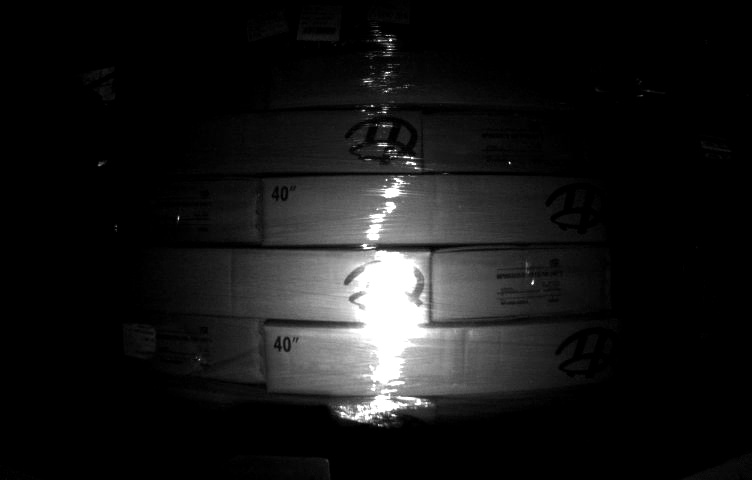True Barcode: (122, 324, 156, 358)
